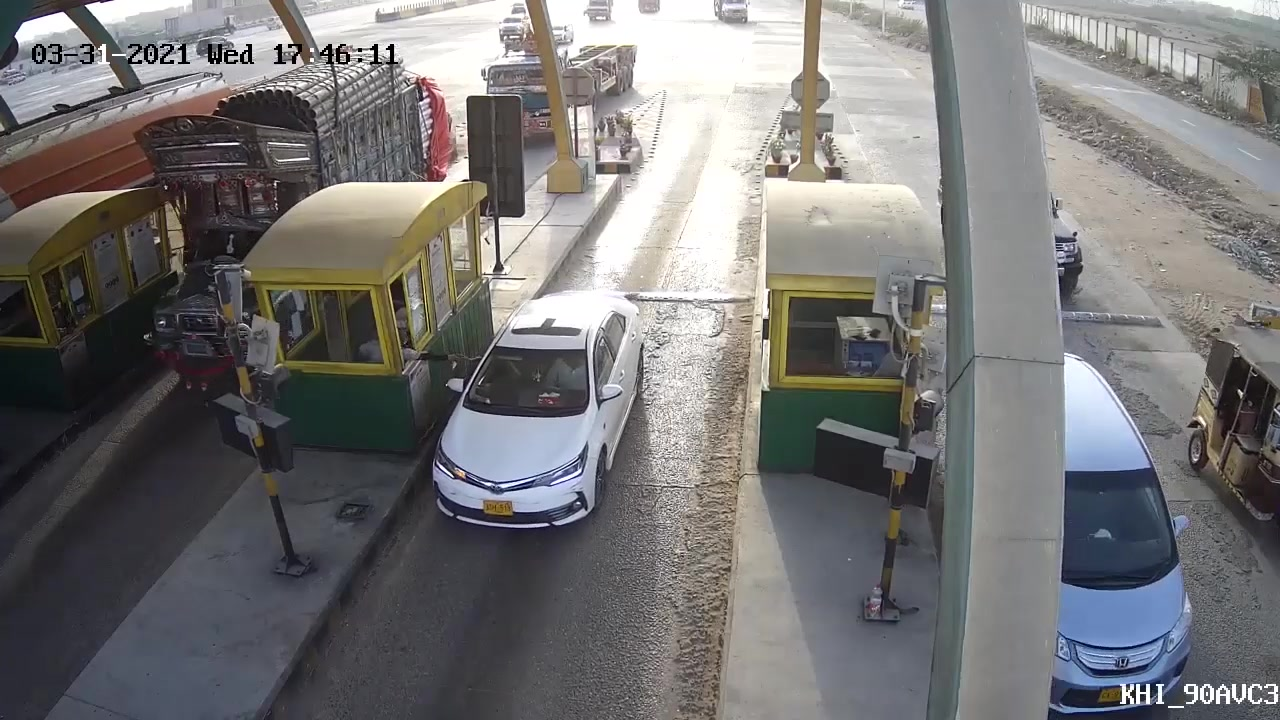F1: (413, 287, 650, 552)
